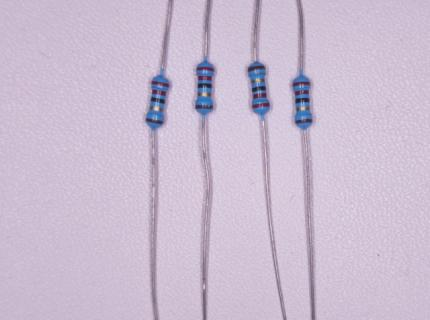Black band: (150, 96, 165, 104), (251, 86, 266, 92), (198, 83, 212, 89), (295, 99, 310, 104)
Brown band: (145, 118, 164, 125), (248, 66, 267, 72), (195, 105, 213, 110), (295, 119, 313, 124)
Gold band: (149, 105, 164, 113), (250, 78, 266, 84), (296, 106, 310, 112), (197, 92, 212, 97)
Red band: (151, 81, 170, 88), (151, 89, 167, 97), (252, 103, 270, 109), (293, 81, 311, 87), (196, 67, 214, 72), (198, 75, 212, 81), (253, 93, 267, 99), (295, 90, 309, 96)
